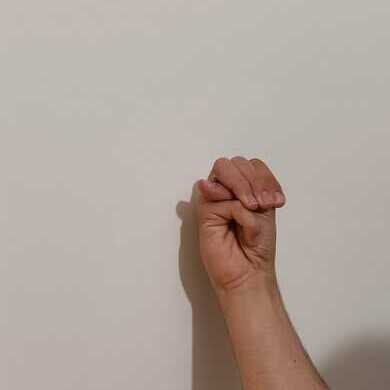M: (196, 156, 287, 287)
